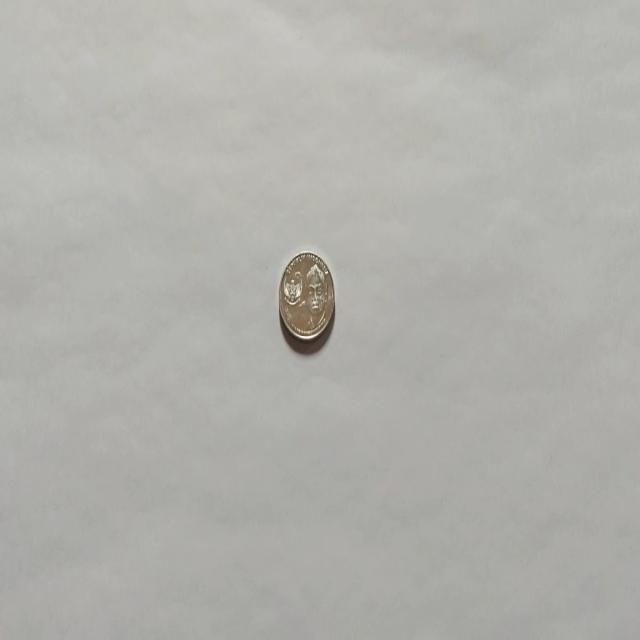dua ratus rupiah: (277, 250, 335, 342)
